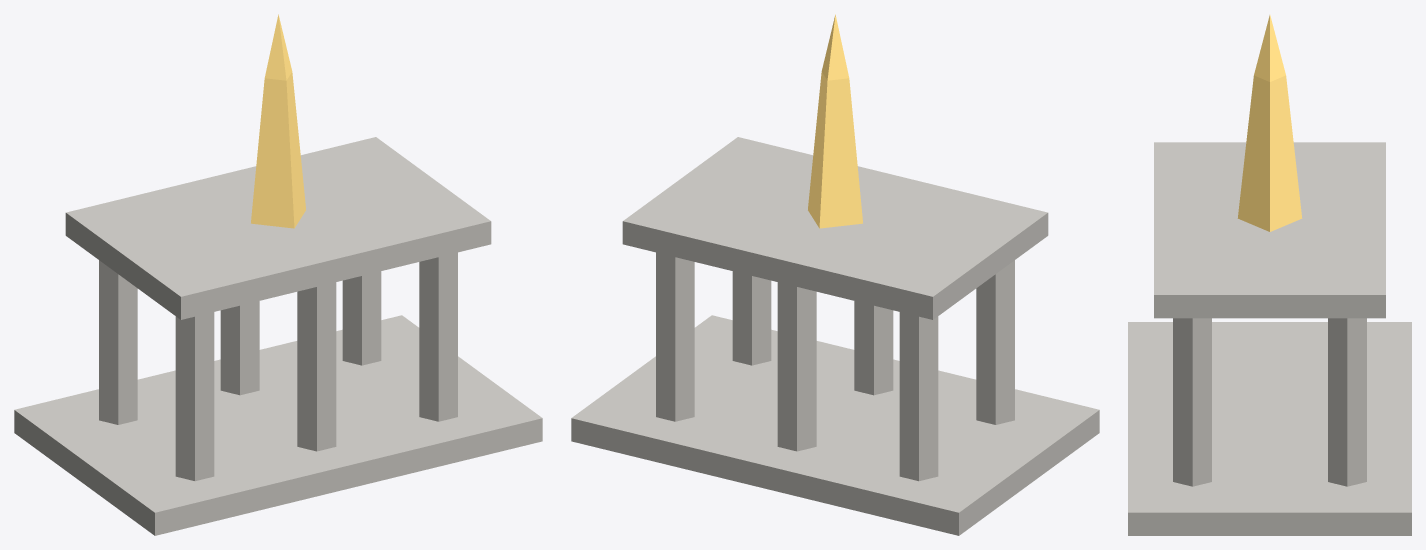
File: wonder-institutum-0.glb
The picture shows the model from 3 angles, left to right: view 1: azimuth 30°, elevation 25°; view 2: azimuth 150°, elevation 25°; view 3: azimuth 270°, elevation 25°; orthographic projection.
Parts seen in each view (by area): view 1: wonder-institutum-0; view 2: wonder-institutum-0; view 3: wonder-institutum-0.
Part boxes in pixels (bbox=[...]): wonder-institutum-0: bbox=[14, 14, 542, 535]; wonder-institutum-0: bbox=[571, 14, 1099, 535]; wonder-institutum-0: bbox=[1128, 15, 1411, 535].
Size of the model in its own units: 0.7 by 0.73 by 0.44.
